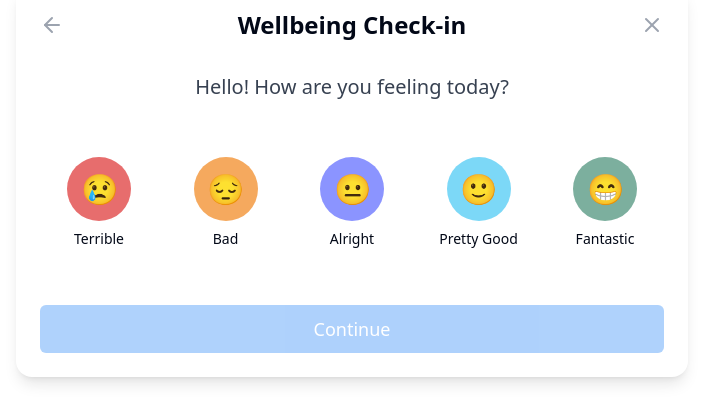
EmojiScale › allows selecting an emoji option
Note: Get the "Fantastic" option and click it
Click the button with test id "emoji-option-fantastic" at [605, 203], box [550,141,660,265]
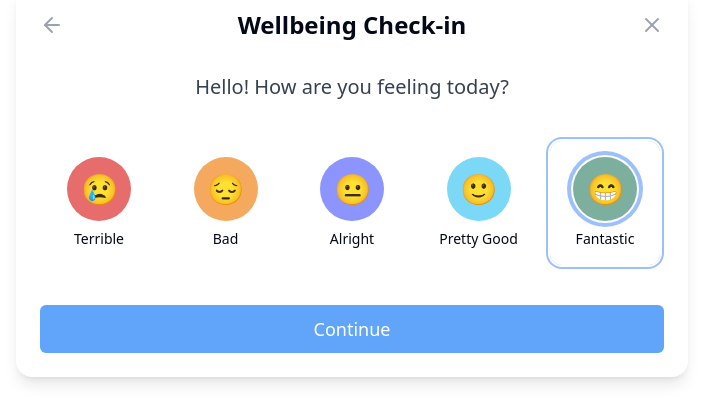
Now the button "Continue" is enabled, box [40,305,664,353]
